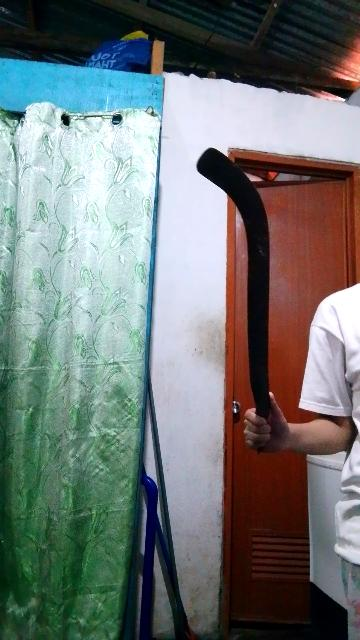long knife: (187, 136, 293, 458)
